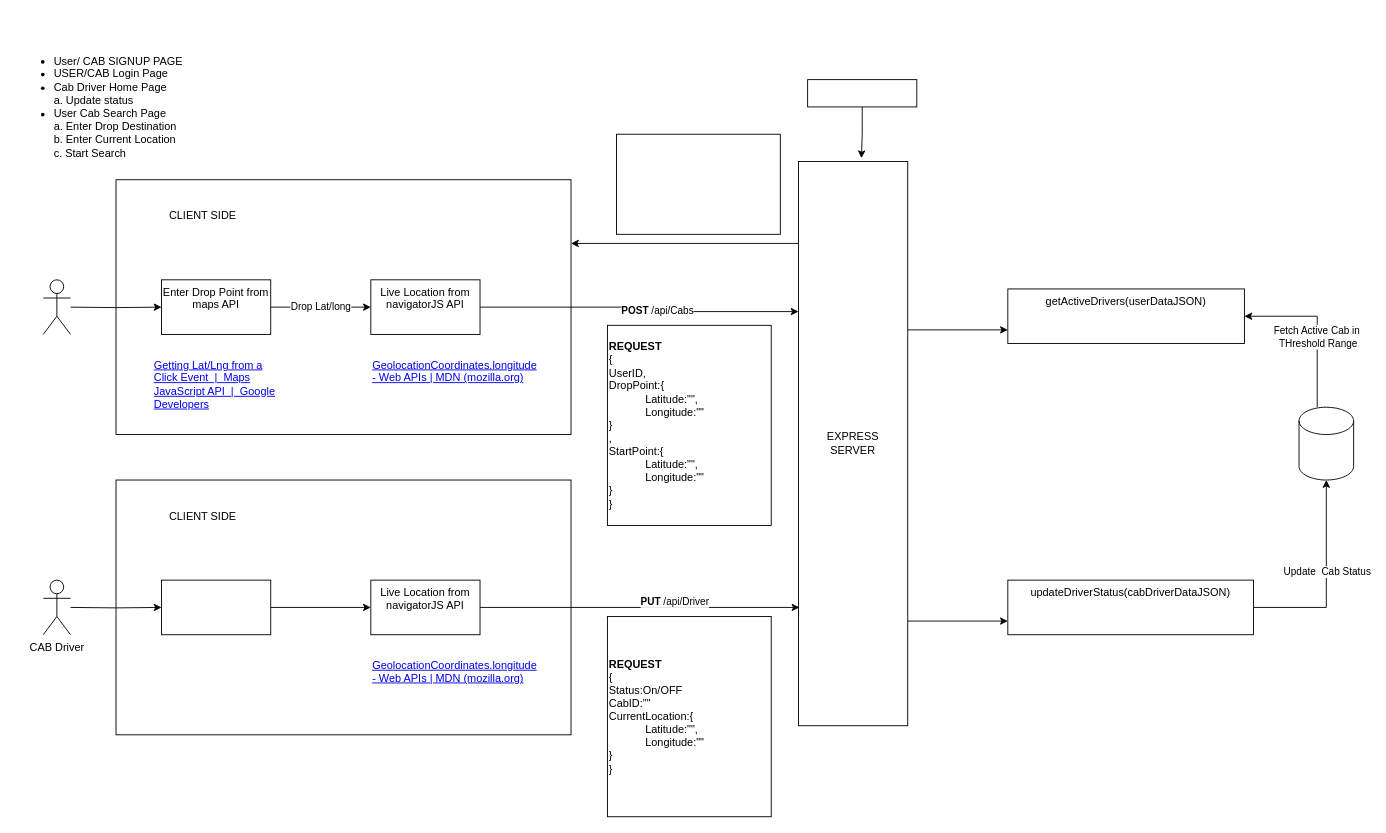
Image size: 1386x833. Some labels were removed from this diagram. The shapes that lost their labels are listed below. From the top down, each one's centre as x and y in pixels, then its label:
pixel 862 93: .env THreshold Value
pixel 698 183: RESPONSE { CabID:"", DistanceToCab:"" }
pixel 56 306: User
pixel 216 607: STATUS ON/OFF
